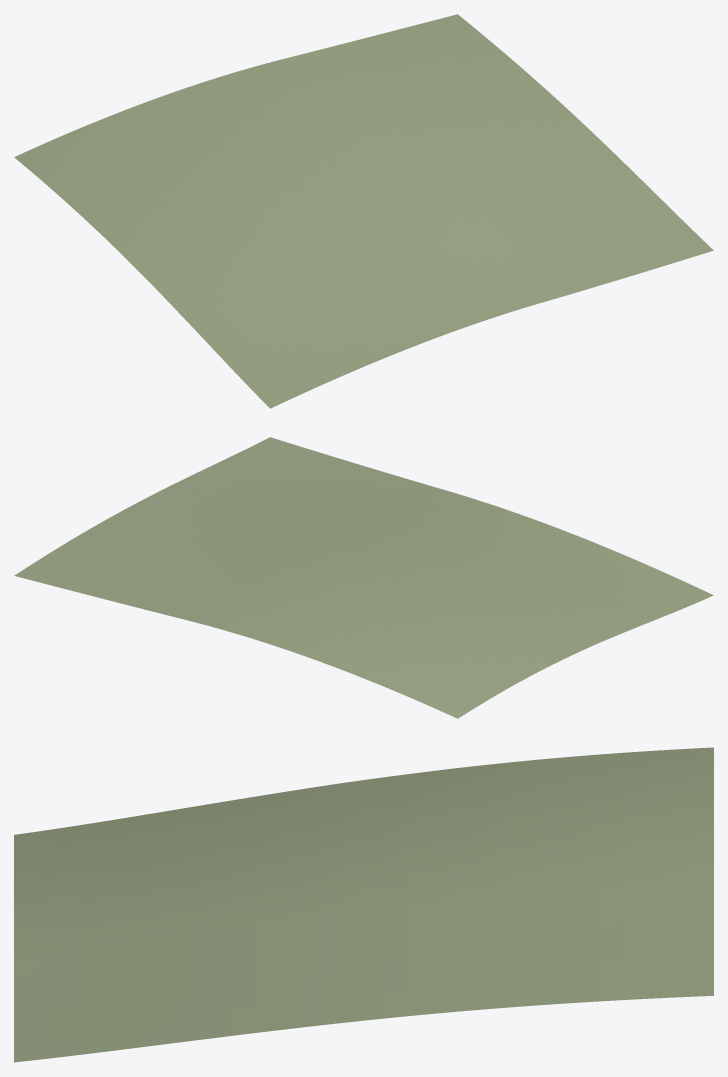
Rendered from desert-24-4.glb.
3 views of the same model, one above another, from view 1: azimuth 30°, elevation 25°; view 2: azimuth 150°, elevation 25°; view 3: azimuth 270°, elevation 25° (orthographic). The views are drawn at different scales.
Visible parts, largest first — view 1: desert-24-4; view 2: desert-24-4; view 3: desert-24-4.
Boxes of the visible parts, bbox=[...] form: desert-24-4: bbox=[14, 14, 713, 408]; desert-24-4: bbox=[14, 437, 713, 718]; desert-24-4: bbox=[14, 747, 713, 1062].
Bounding box in the file's own units: 512 × 109 × 512.
